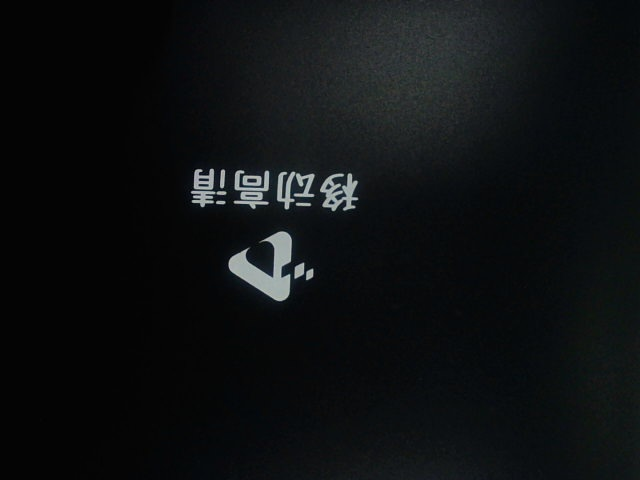AO_MobileHD: (166, 137, 390, 326)
